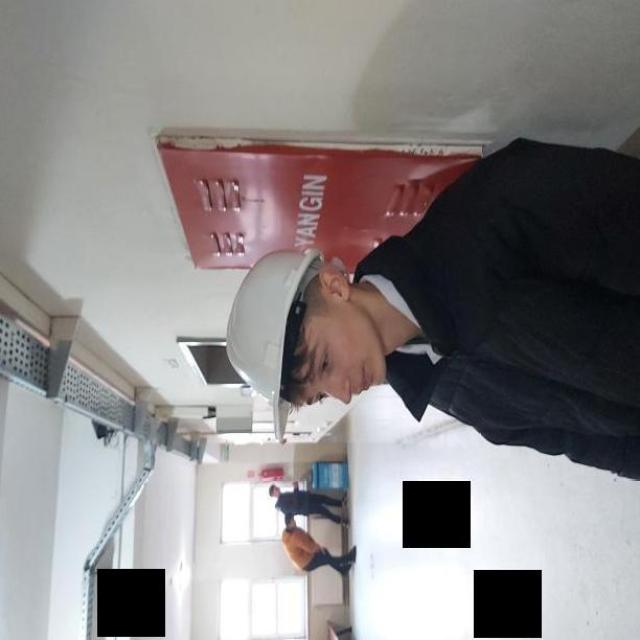white helmet: (226, 246, 363, 452)
